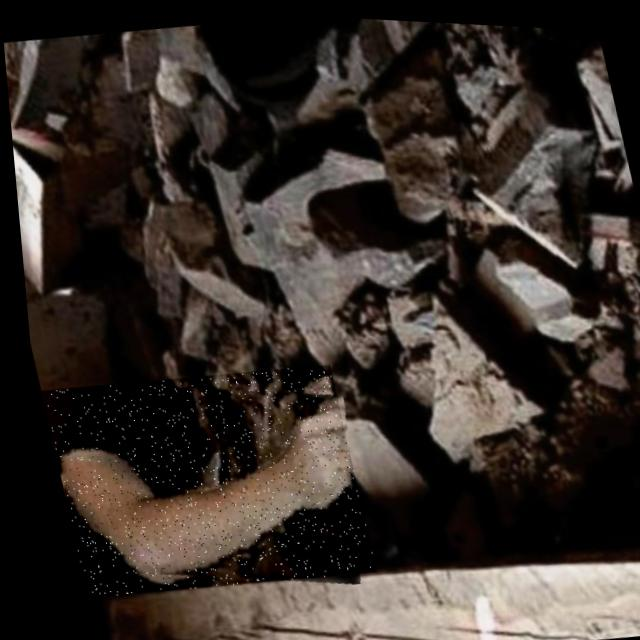Person in Rubble: (31, 349, 369, 609)
